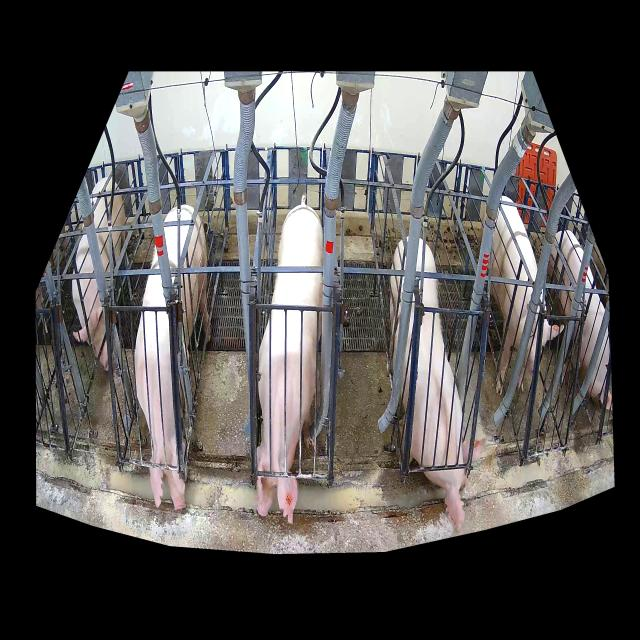pig: (389, 237, 486, 533), (135, 205, 213, 511), (256, 204, 324, 525), (482, 195, 564, 395), (548, 229, 612, 413), (73, 178, 130, 373)
